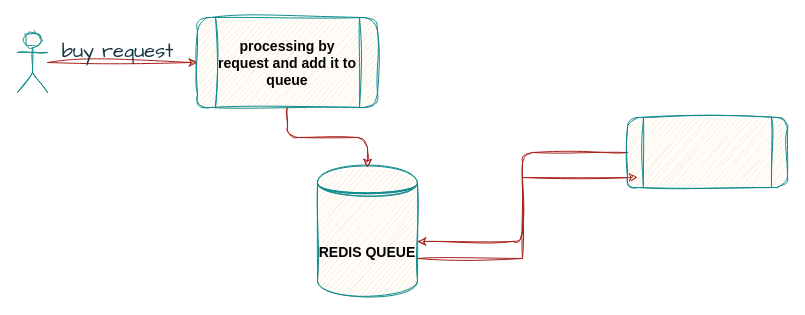
Image size: 805x315. Some labels were removed from this diagram. The centre of each missing label's shape, as x and y in pixels:
30s task for exchange events: the point at 707,152
Actor: the point at 32,62
